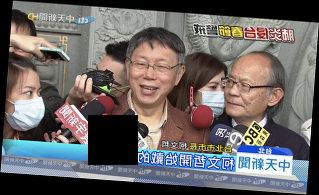with_mask: (6, 83, 46, 130), (194, 79, 228, 119)
without_mask: (128, 53, 176, 107), (225, 72, 272, 122)
